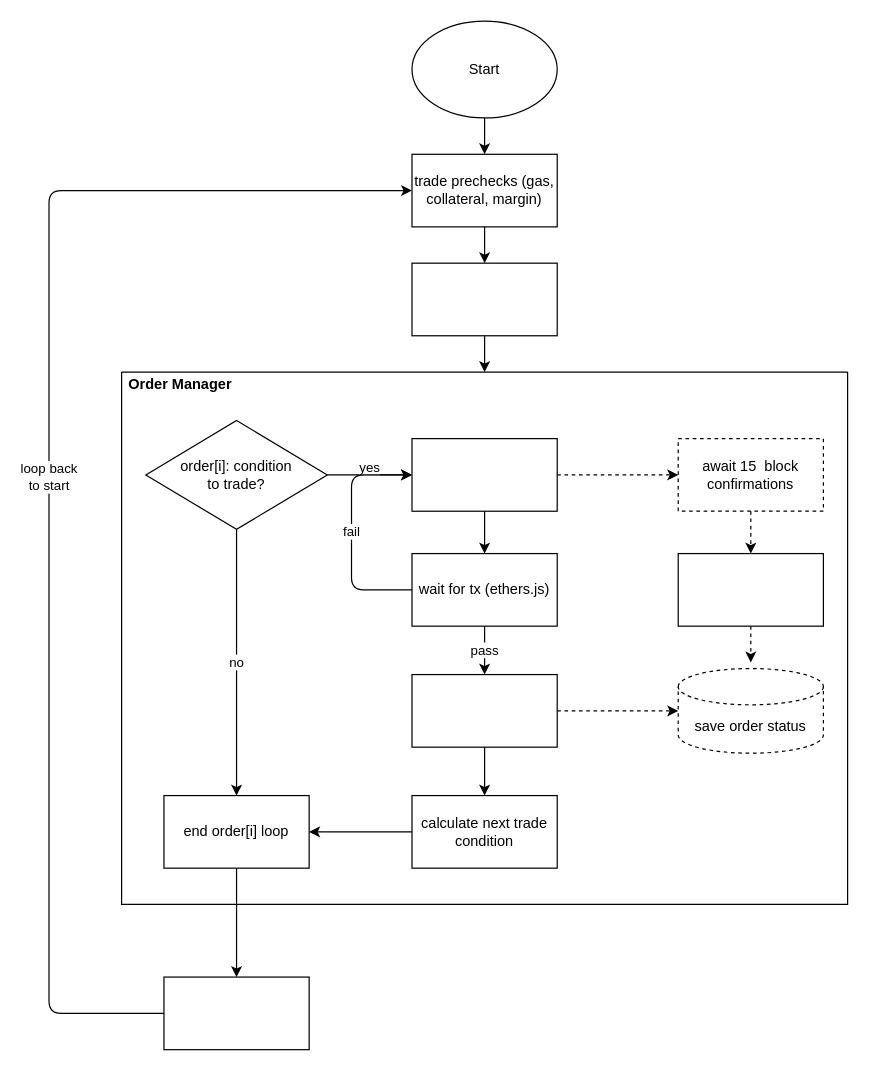
Image size: 869x1071. Some labels were removed from this diagram. The shapes that lost their labels are listed below. From the top down, each one's centre as x and y in pixels, then its label:
At point (484, 299): "check for open orders".
At point (484, 474): "send child order tx".
At point (750, 589): "check for change in tx response".
At point (484, 710): "update parent order status".
At point (236, 1013): "top level update or something".
